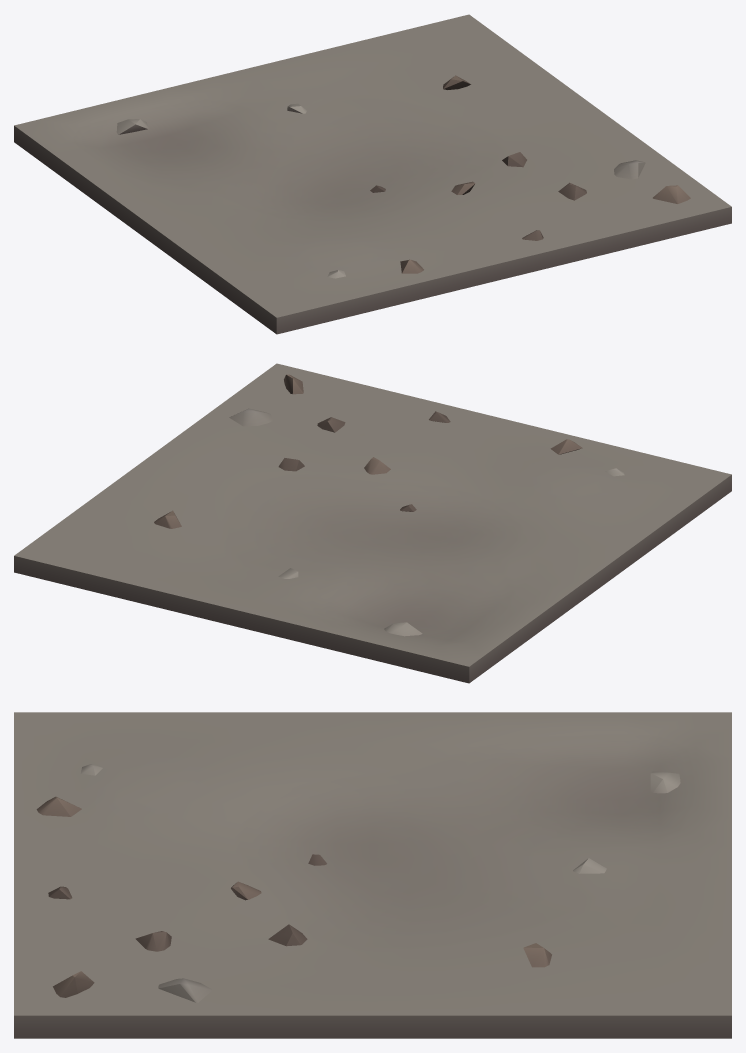
The model's file is floor_cave_large_C.glb.
3 renders of one model, top to bottom at view 1: azimuth 30°, elevation 25°; view 2: azimuth 150°, elevation 25°; view 3: azimuth 270°, elevation 25°, orthographic. The views are drawn at different scales.
Parts seen in each view (by area): view 1: Item; view 2: Item; view 3: Item.
Part boxes in pixels (<box>): Item: <box>14,14,731,334</box>; Item: <box>14,363,731,683</box>; Item: <box>14,712,731,1038</box>.
Size of the model in its own units: 4 by 0.2475 by 4.
Materials: 1 (1 with a texture image).
